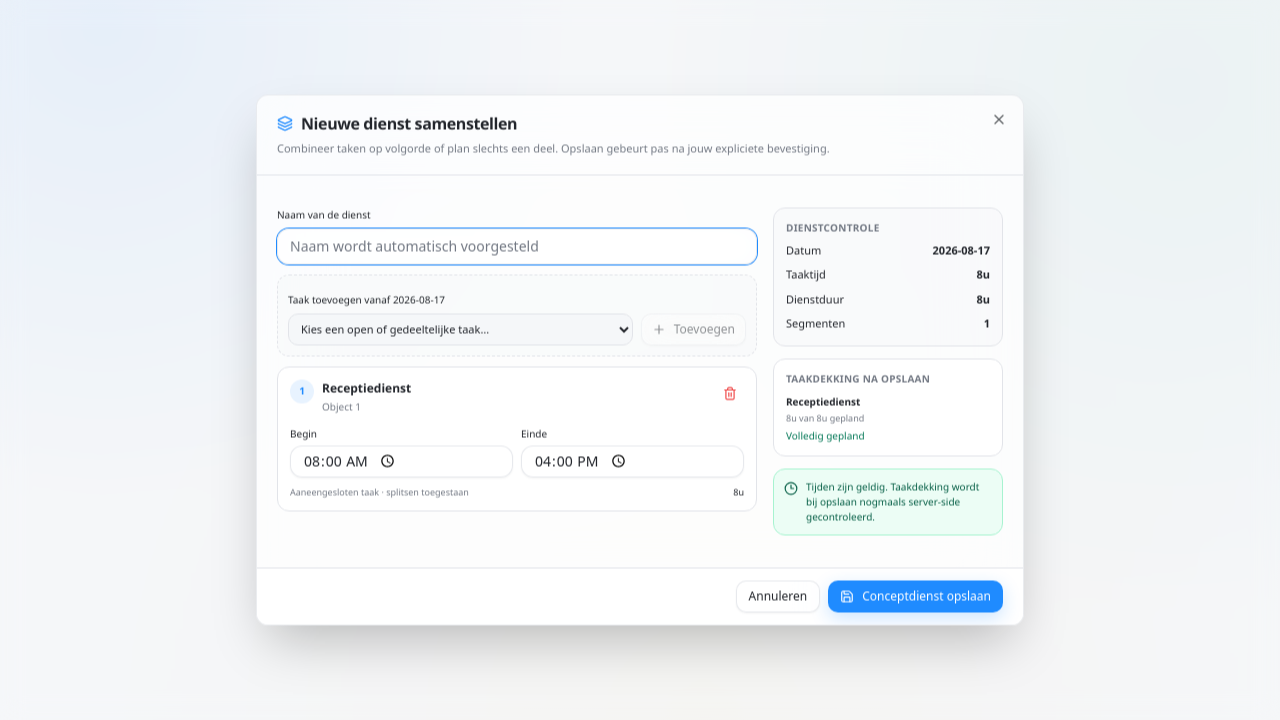
Test: Planning dienstcomposer › blokkeert opslaan wanneer een segment buiten het taakvenster valt
Replace the text in the time field labelled "Begin" with "07:00" at (402, 461), box [290,445,513,477]
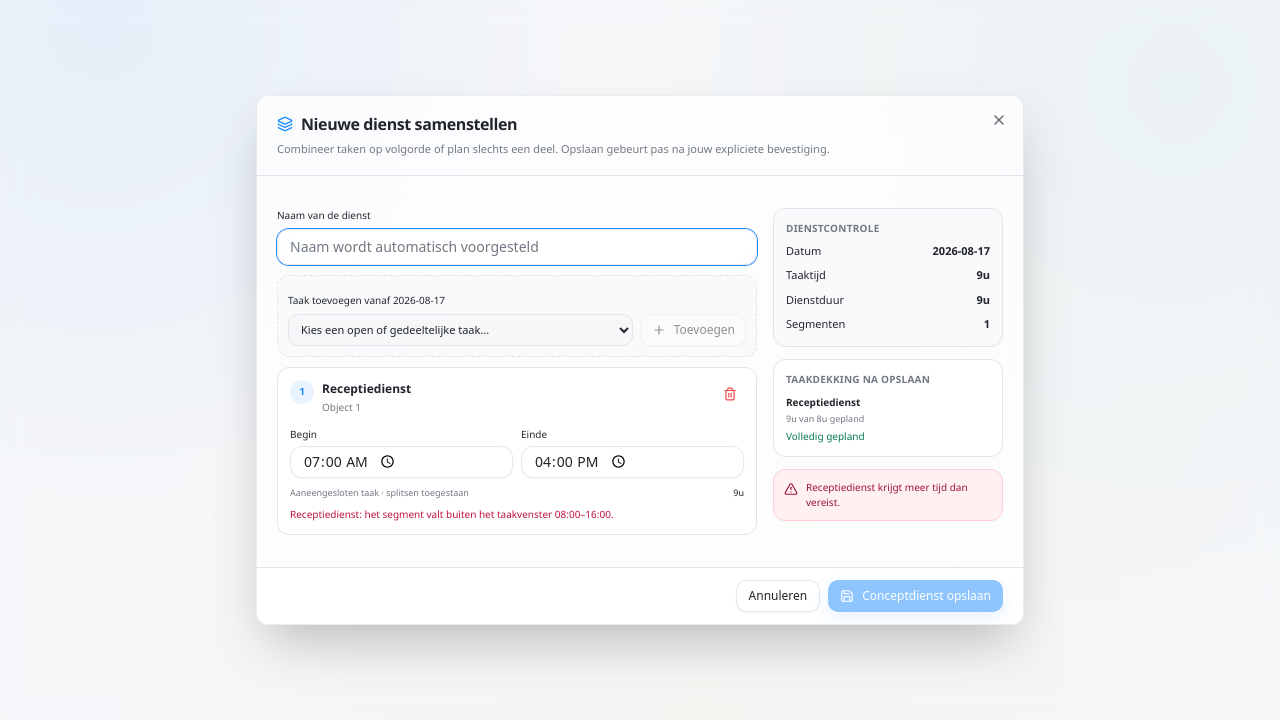
Result: the text "Receptiedienst: het segment valt buiten het taakvenster 08:00–16:00." is shown at [290,507,614,521]
Result: the button "Conceptdienst opslaan" is disabled at [828,580,1003,612]
